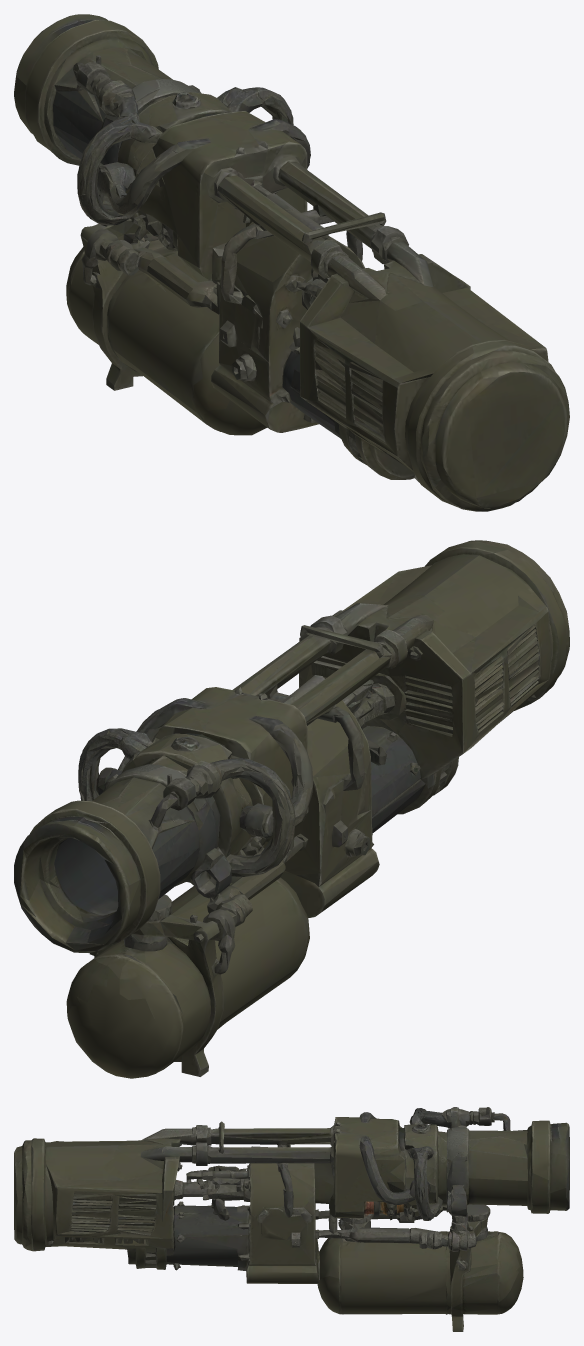
The model's file is tower_frost.glb.
3 views of the same model, one above another, from view 1: azimuth 30°, elevation 25°; view 2: azimuth 150°, elevation 25°; view 3: azimuth 270°, elevation 25° (orthographic). The views are drawn at different scales.
Visible parts, largest first — view 1: tower_frost; view 2: tower_frost; view 3: tower_frost.
Boxes of the visible parts, box(x1,y1,x2,y2) form: tower_frost: box(14, 14, 569, 511); tower_frost: box(14, 540, 569, 1078); tower_frost: box(14, 1107, 569, 1331).
Bounding box in the file's own units: 0.5658 × 0.7898 × 2.
1 material, 1 textured.
